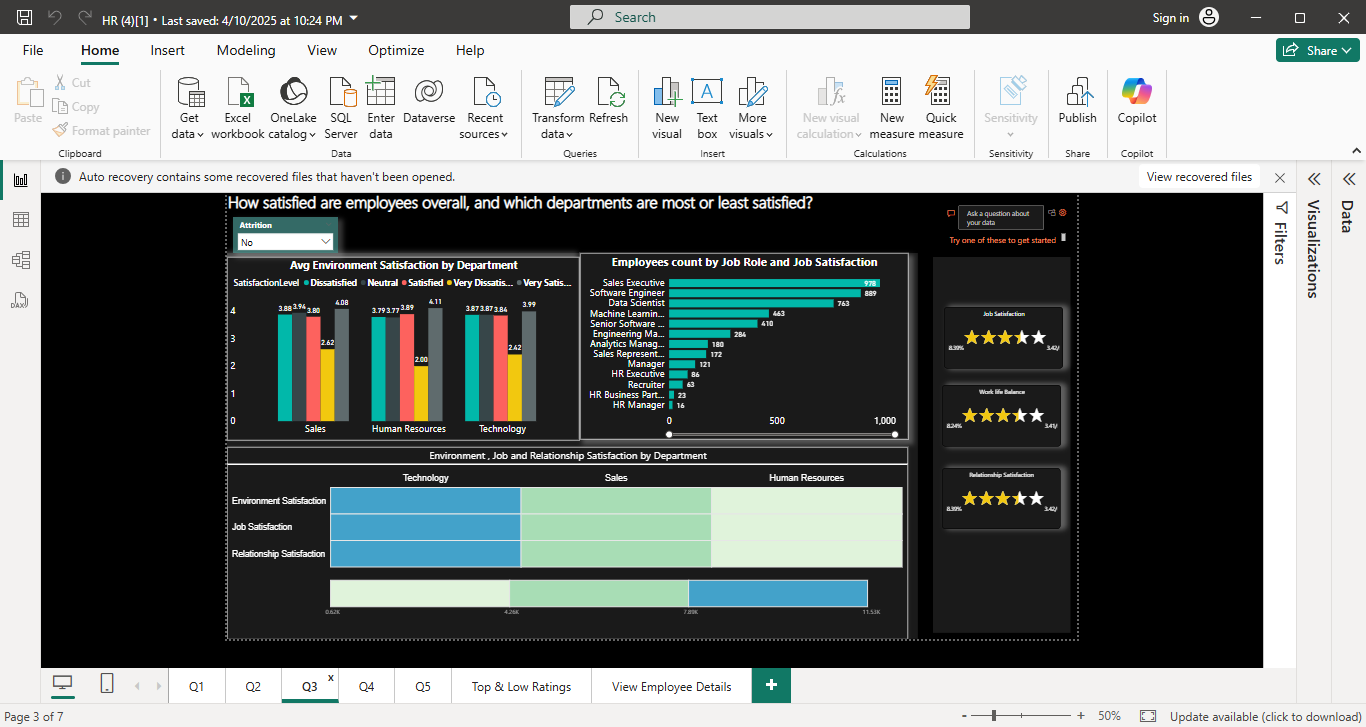

This screenshot's page, from the dashboard's own definition file:
{"tool":"powerbi","page":{"name":"Q3","canvas":[1700,900],"ordinal":2},"visuals":[{"type":"textbox","box":[0,0,1381.7,68.3],"z":0},{"type":"shape","box":[0,128.3,1381.7,771.7],"z":1000},{"type":"shape","box":[1411.7,135,275,751.7],"z":2000},{"type":"qnaVisual","box":[1432.8,8.2,254.1,119.7],"z":3000},{"type":"ratingsvisual001","title":"Job Satisfaction","fields":{"measure":["Avg(HR Dataset (1).JobSatisfaction)"]},"box":[1433.3,236.7,238.3,123.3],"z":4000},{"type":"ratingsvisual001","title":"Work life Balance","fields":{"measure":["Avg(HR Dataset (1).WorkLifeBalance)"]},"box":[1430,391.7,238.3,123.3],"z":5000},{"type":"ratingsvisual001","title":"Relationship Satisfaction","fields":{"measure":["Avg(HR Dataset (1).RelationshipSatisfaction)"]},"box":[1430,558.3,236.7,121.7],"z":7000},{"type":"clusteredColumnChart","title":"Avg Environment Satisfaction by Department","fields":{"Category":["HR Dataset (1).Department"],"Y":["Avg(HR Dataset (1).EnvironmentSatisfaction)"],"Series":["HR Dataset (1).SatisfactionLevel"]},"box":[0,135,705,366.7],"z":8000},{"type":"clusteredBarChart","title":"Employees count by Job Role and Job Satisfaction","fields":{"Category":["HR Dataset (1).JobRole"],"Y":["CountNonNull(HR Dataset (1).EmployeeID)"]},"box":[705,128.3,656.7,373.3],"z":9000},{"type":"TableHeatMap1443716069308","title":"Environment , Job and Relationship Satisfaction by Department","fields":{"Category":["HR Dataset (1).Department"],"Y":["Sum(HR Dataset (1).EnvironmentSatisfaction)","Sum(HR Dataset (1).JobSatisfaction)","Sum(HR Dataset (1).RelationshipSatisfaction)"]},"box":[0,515,1361.7,385],"z":10000},{"type":"slicer","fields":{"Values":["HR Dataset (1).Attrition"]},"box":[11.7,56.7,210,71.7],"z":11000}]}

Visuals, with their boxes on the page's 1700x900 design canvas (x1, y1, x2, y2). These are canvas units, not pixel positions in the 1366x727 screenshot, which may show the page scaled, cropped or inside an application window:
textbox: bbox=(0, 0, 1382, 68)
shape: bbox=(0, 128, 1382, 900)
shape: bbox=(1412, 135, 1687, 887)
qnaVisual: bbox=(1433, 8, 1687, 128)
"Job Satisfaction" ratingsvisual001: bbox=(1433, 237, 1672, 360)
"Work life Balance" ratingsvisual001: bbox=(1430, 392, 1668, 515)
"Relationship Satisfaction" ratingsvisual001: bbox=(1430, 558, 1667, 680)
"Avg Environment Satisfaction by Department" clusteredColumnChart: bbox=(0, 135, 705, 502)
"Employees count by Job Role and Job Satisfaction" clusteredBarChart: bbox=(705, 128, 1362, 502)
"Environment , Job and Relationship Satisfaction by Department" TableHeatMap1443716069308: bbox=(0, 515, 1362, 900)
slicer - HR Dataset (1).Attrition: bbox=(12, 57, 222, 128)
